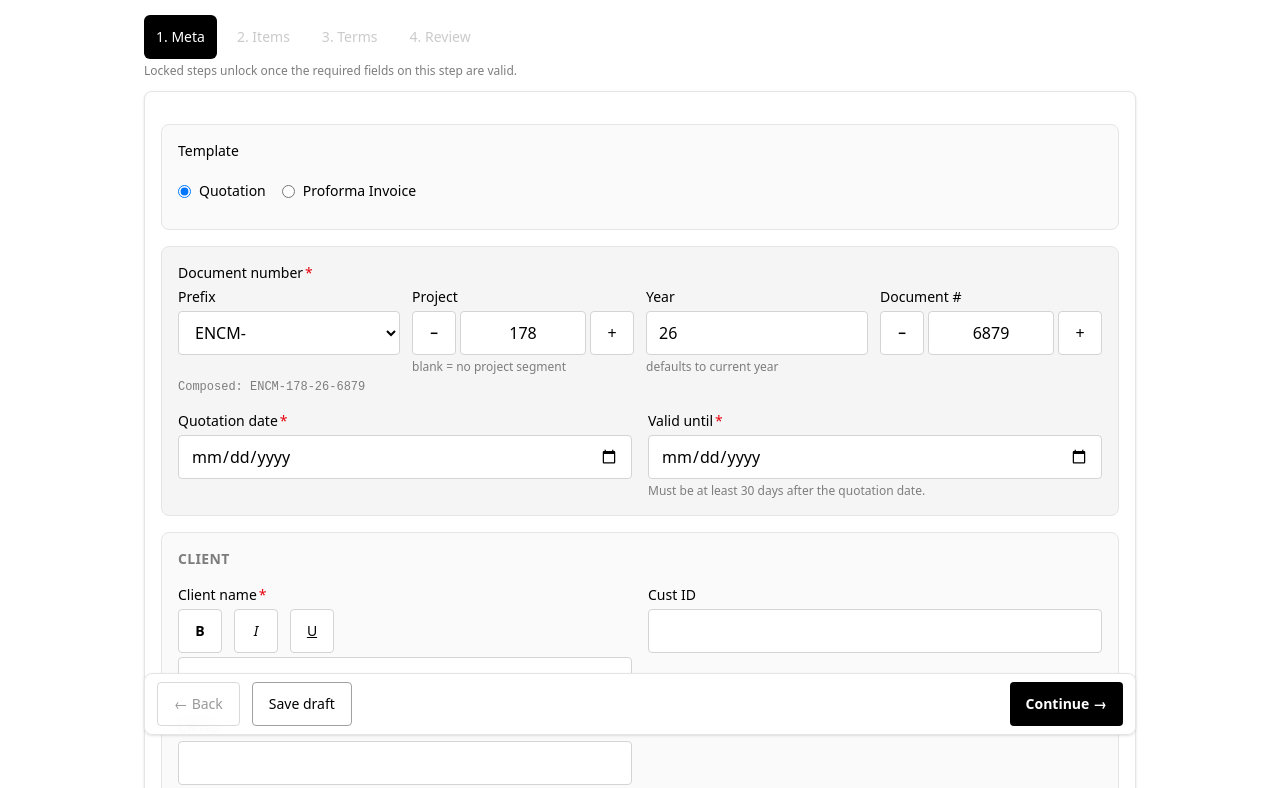
Test: Wizard step chips + gating (AC-7/AC-8) › reveals Step-1 validation errors only after an attempted Continue, and stays put
The width and height of the screenshot is (1280, 788).
Expected: the text "Client name is required." is not shown
Click the button "Continue →" at (1066, 704), box [1010,682,1123,726]
(page scrolled)
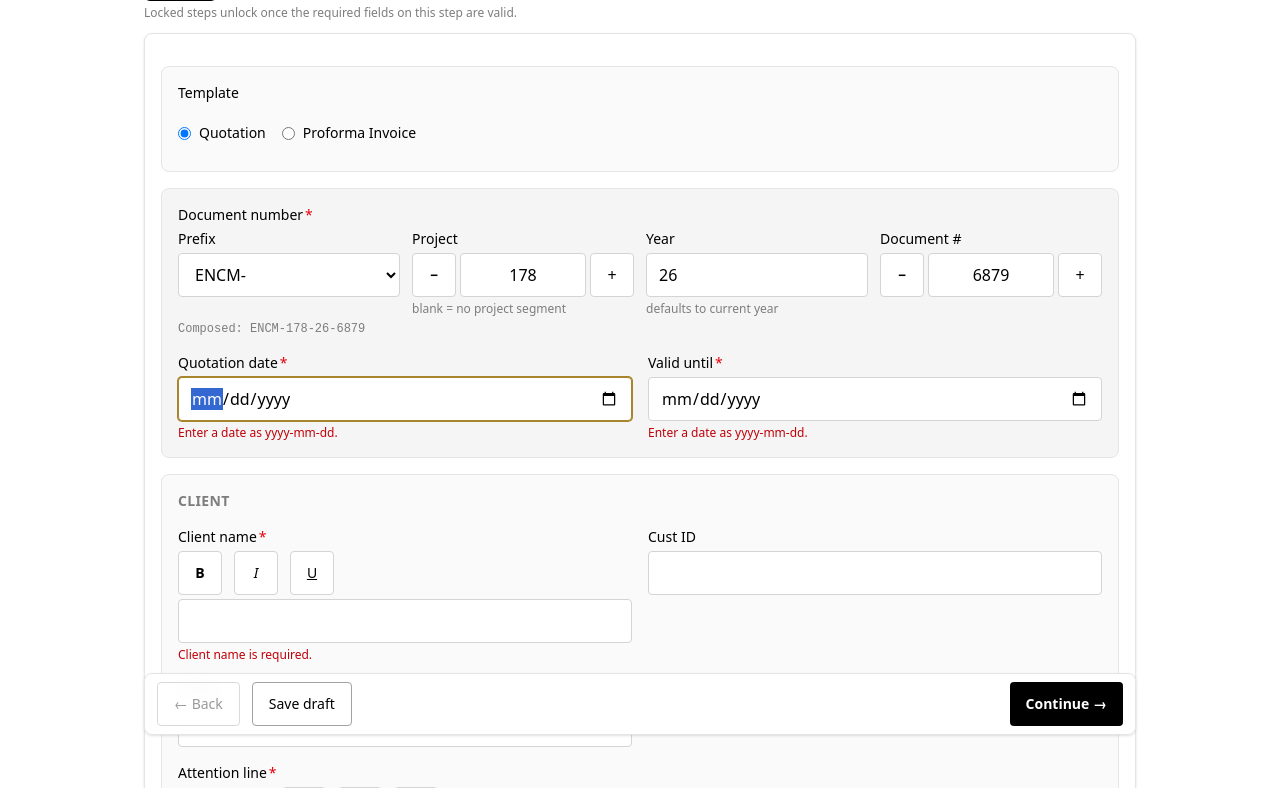
Expected: the text "Client name is required." is shown, [178,646,312,663]
